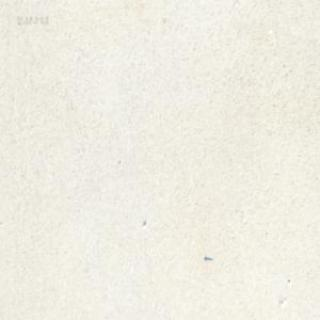Nailtrack_idkeyframe: (203, 254, 212, 260)
